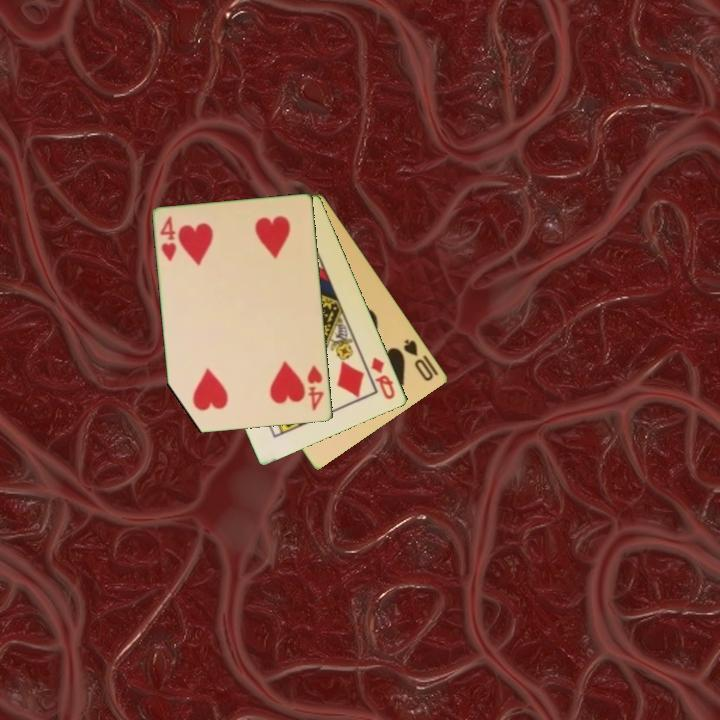10s: (400, 335, 436, 384)
4h: (304, 362, 327, 414), (157, 212, 179, 264)
Qd: (368, 354, 398, 403)
